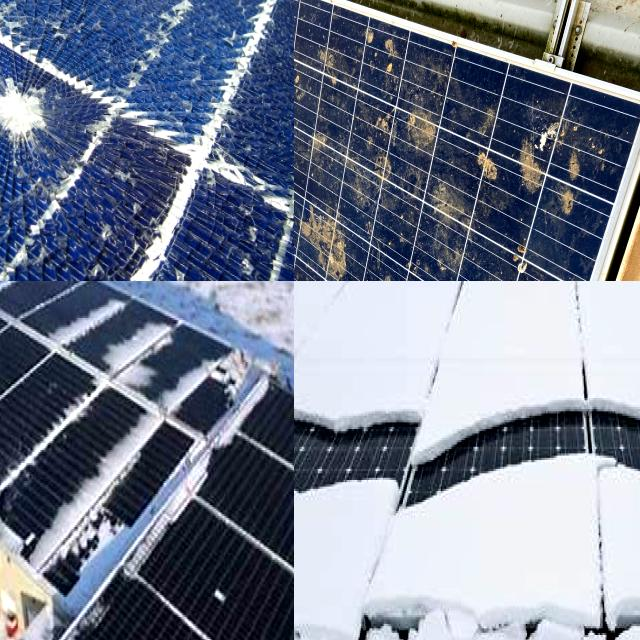bird: (432, 162, 525, 246), (315, 193, 403, 281)
hotspot: (0, 43, 79, 190)
panel: (413, 478, 601, 640), (23, 408, 146, 590), (397, 281, 509, 460), (294, 454, 398, 640), (522, 281, 640, 438), (294, 281, 375, 443), (175, 337, 263, 412), (100, 308, 164, 394), (52, 284, 124, 358), (204, 557, 252, 626)
